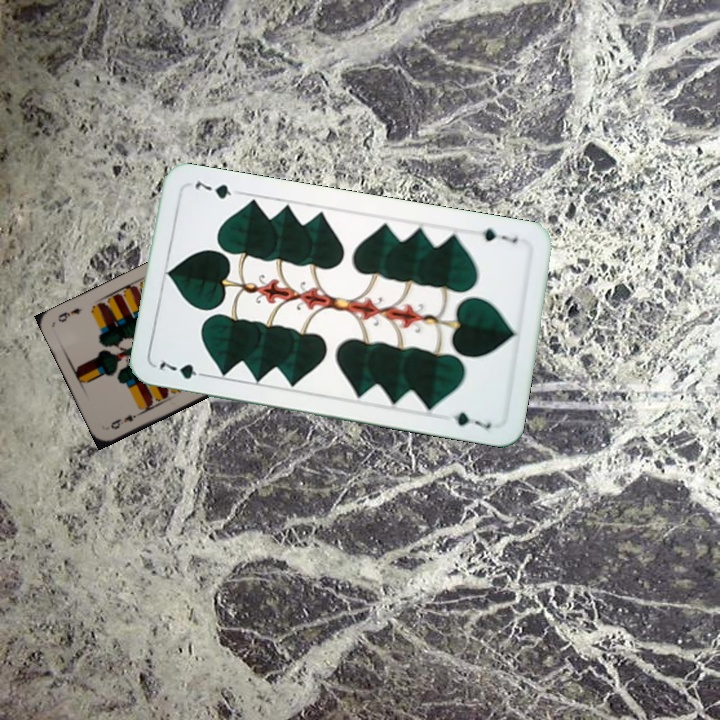E9: (107, 410, 143, 432)
G7: (155, 357, 212, 382), (477, 224, 521, 246)
